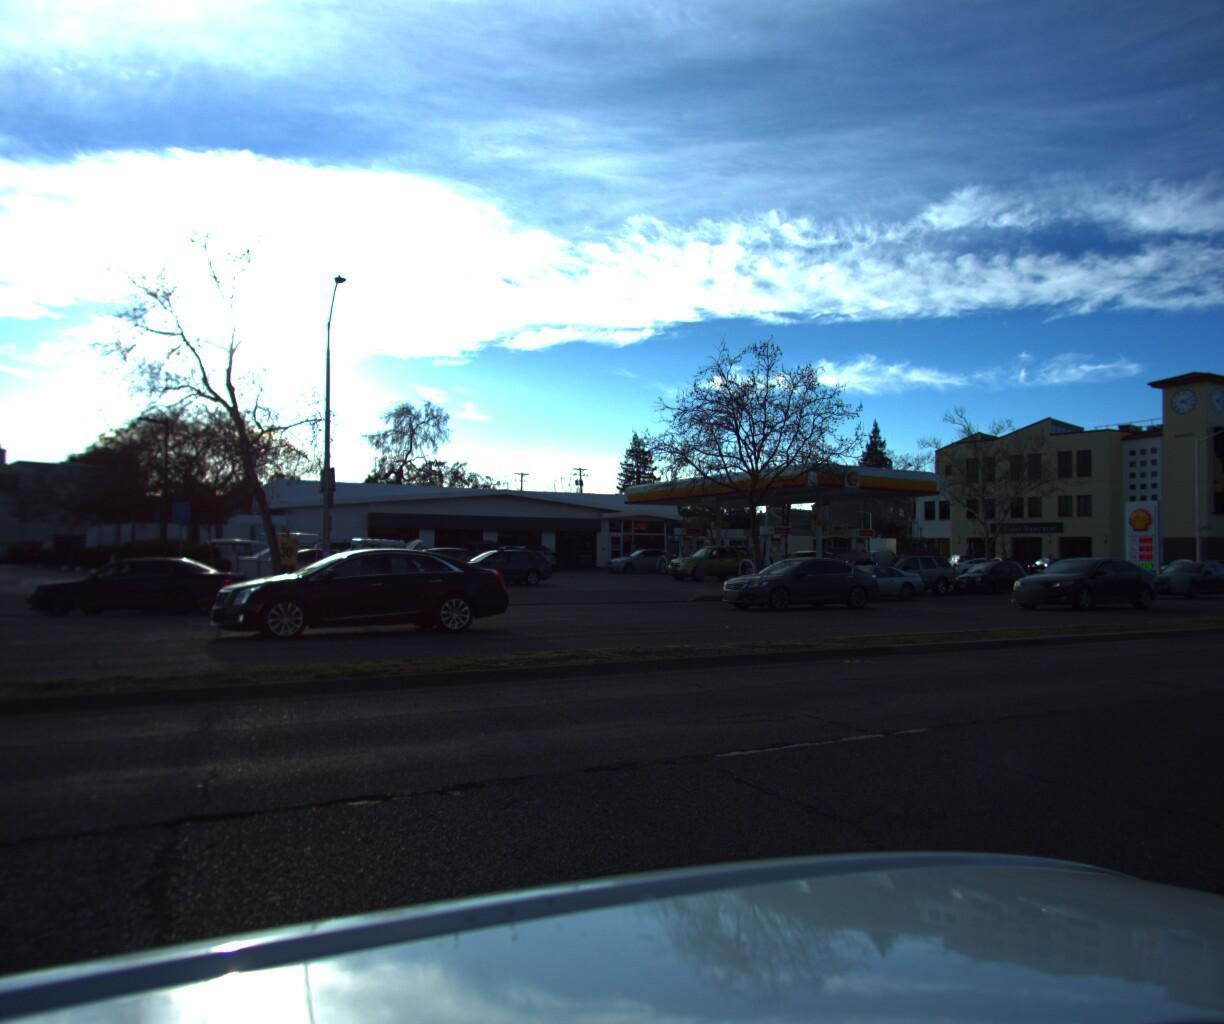car: (205, 543, 514, 647), (26, 554, 260, 624), (285, 530, 451, 594), (714, 551, 882, 611), (1003, 551, 1167, 610), (260, 544, 400, 589), (434, 540, 561, 586), (390, 542, 521, 586), (842, 548, 959, 596), (847, 557, 976, 595), (236, 544, 353, 584), (1129, 548, 1224, 594), (196, 534, 307, 573), (657, 541, 758, 580), (942, 555, 1034, 594), (598, 543, 683, 571), (443, 537, 512, 571), (497, 542, 561, 571), (950, 551, 1024, 576), (1173, 553, 1224, 581), (355, 520, 404, 547), (523, 521, 575, 545), (471, 519, 521, 544), (415, 520, 461, 545)
